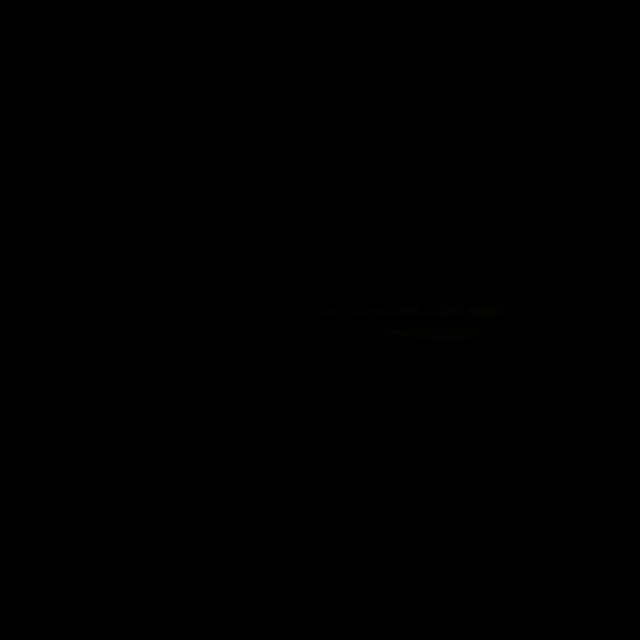95C: (415, 360, 490, 425)
bleach: (378, 366, 432, 425)
drip_dry: (238, 372, 301, 434)
drip_dry_in_shade: (189, 373, 255, 438)
dry_clean: (333, 371, 389, 426)
dry_clean_petrol_only: (285, 366, 345, 431)
